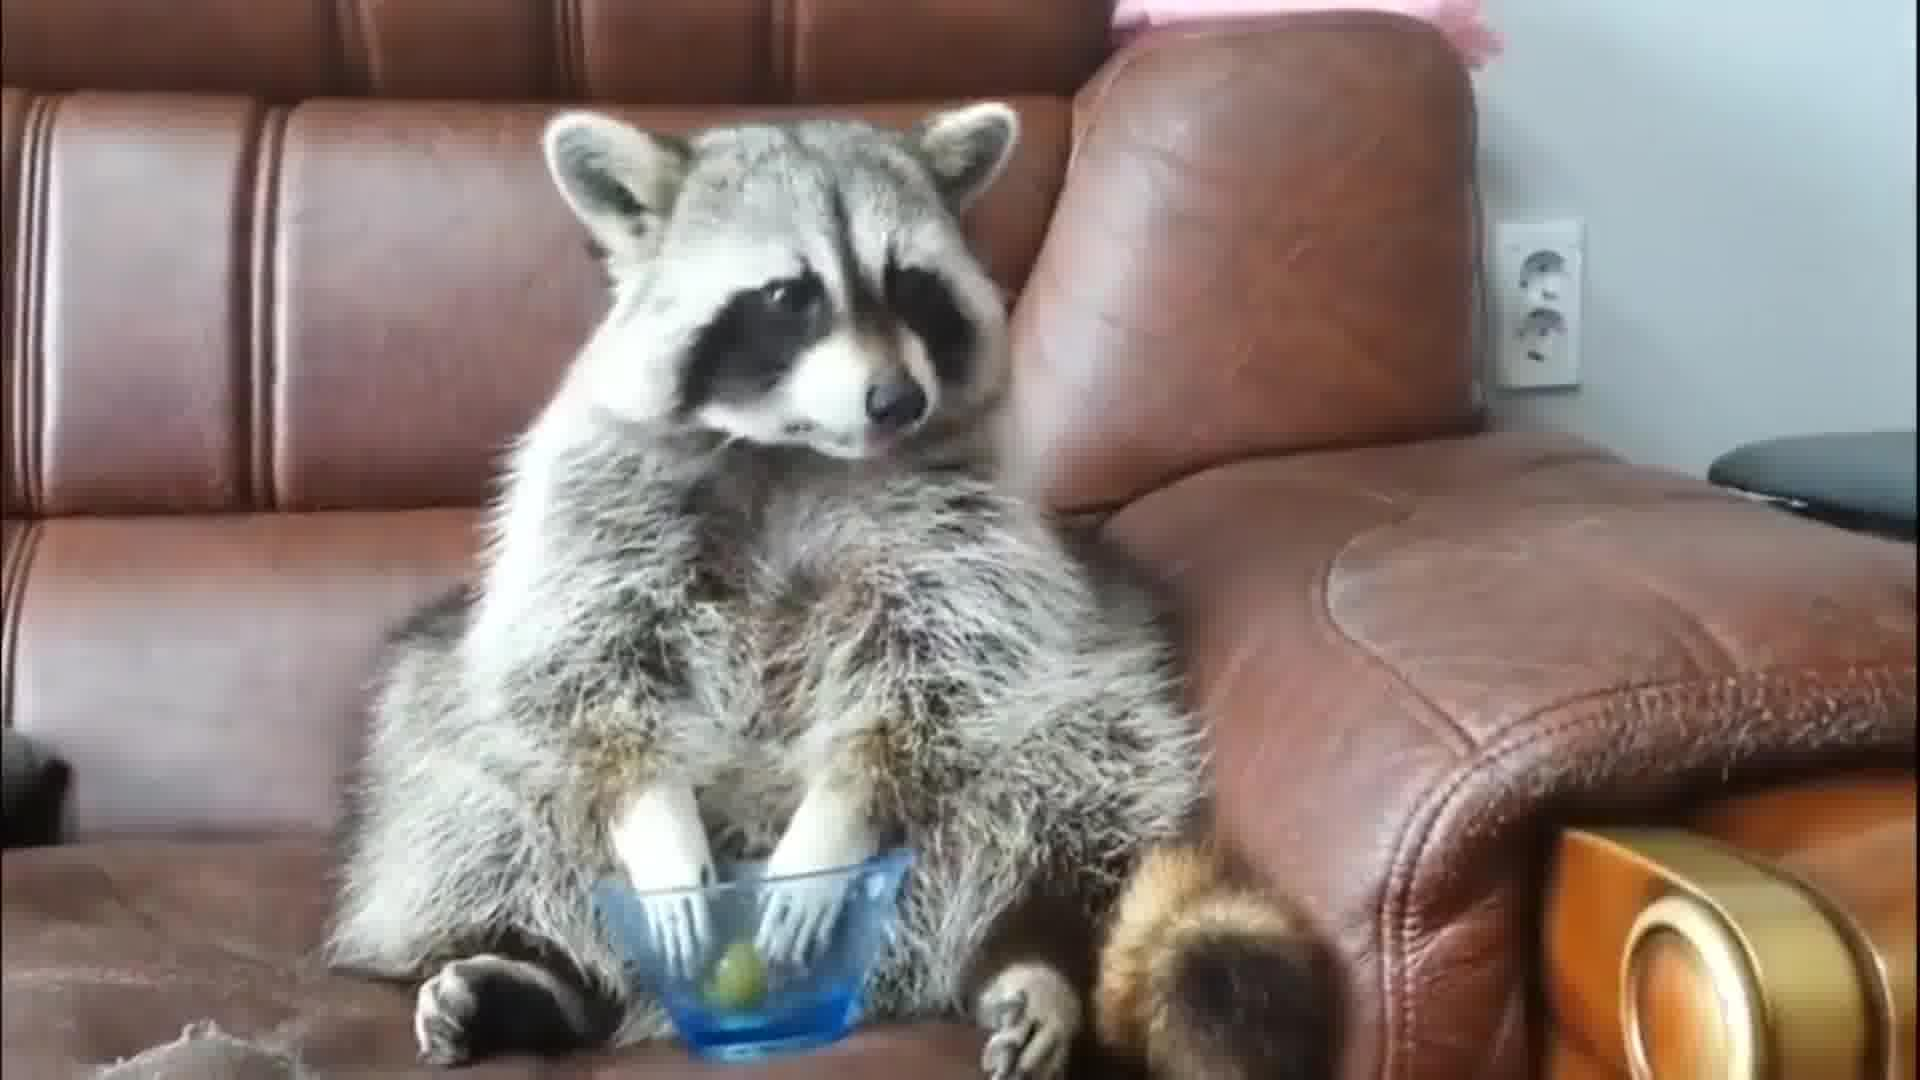raccoon: (319, 91, 1352, 1080)
